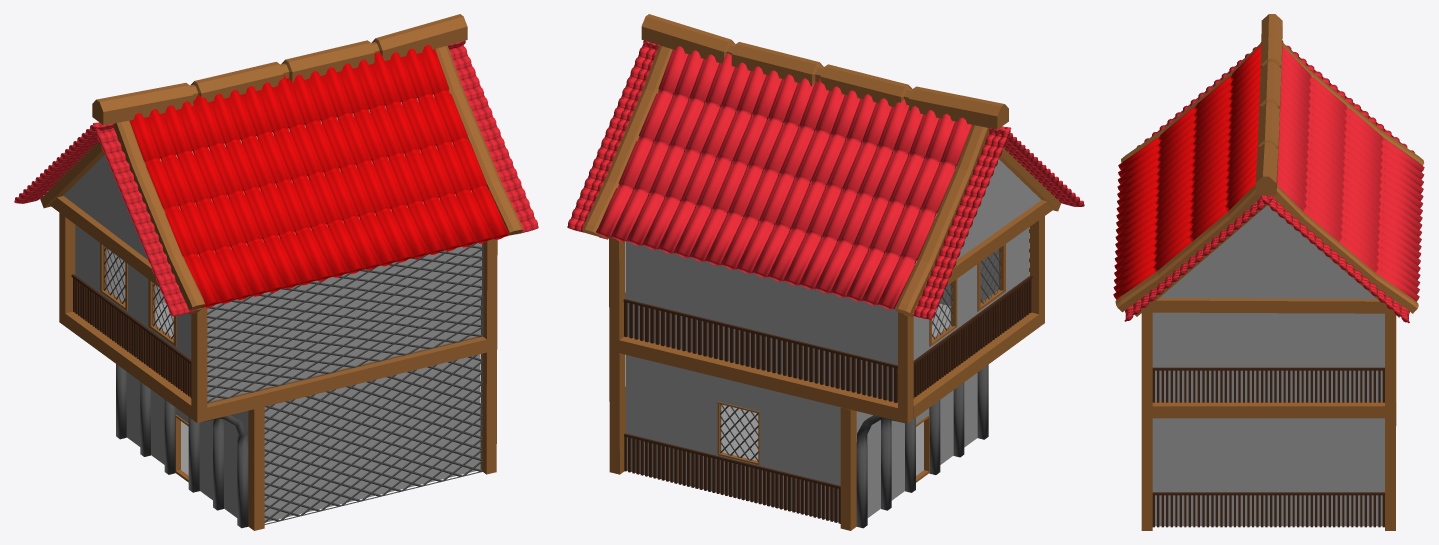
Rendered from medieval.fbx.
3 views of the same model, side by side, from view 1: azimuth 30°, elevation 25°; view 2: azimuth 150°, elevation 25°; view 3: azimuth 270°, elevation 25° (orthographic). The views are drawn at different scales.
Visible parts, largest first — view 1: Circle.007, floor2, floor1, wire2.001, Plane.002, Cube.007, woodpill.004, pillar, wfance, Circle.002, woodpill.001, Circle.010 (+10 smaller); view 2: Circle.001, floor1, floor2, Cube.007, wfance.008, wfance.001, woodpill.005, pillar, wfance, Circle.008, woodpill, Cube.010 (+13 smaller); view 3: floor1, Circle.001, Circle.007, floor2, Cube.009, wfance.004, wfance.006, woodpill.003, Cube.007, woodpill.007, woodpill.001, woodpill (+11 smaller).
Part boxes in pixels (<box>): Circle.007: <box>129,45,508,307</box>; floor2: <box>75,225,480,400</box>; floor1: <box>126,354,480,522</box>; wire2.001: <box>207,243,483,403</box>; Plane.002: <box>264,353,482,524</box>; Cube.007: <box>92,14,467,125</box>; woodpill.004: <box>191,307,486,422</box>; pillar: <box>116,364,248,528</box>; wfance: <box>73,278,191,397</box>; Circle.002: <box>93,122,197,316</box>; woodpill.001: <box>480,239,497,474</box>; Circle.010: <box>449,45,538,234</box>; Circle.001: <box>596,46,972,309</box>; floor1: <box>625,355,977,522</box>; floor2: <box>625,227,1028,401</box>; Cube.007: <box>641,14,1008,129</box>; wfance.008: <box>624,302,897,402</box>; wfance.001: <box>624,436,840,523</box>; woodpill.005: <box>619,312,913,423</box>; pillar: <box>856,364,988,528</box>; wfance: <box>913,279,1031,398</box>; Circle.008: <box>912,126,1011,319</box>; woodpill: <box>609,237,625,474</box>; Cube.010: <box>895,125,989,315</box>; floor1: <box>1152,418,1384,526</box>; Circle.001: <box>1277,46,1424,301</box>; Circle.007: <box>1113,45,1261,299</box>; floor2: <box>1152,312,1384,401</box>; Cube.009: <box>1160,205,1376,299</box>; wfance.004: <box>1152,370,1384,402</box>; wfance.006: <box>1152,495,1384,527</box>; woodpill.003: <box>1152,401,1384,418</box>; Cube.007: <box>1255,14,1282,195</box>; woodpill.007: <box>1142,297,1393,313</box>; woodpill.001: <box>1141,312,1152,530</box>; woodpill: <box>1385,313,1395,530</box>.
Bounding box in the file's own units: 1647 × 1705 × 1302.
